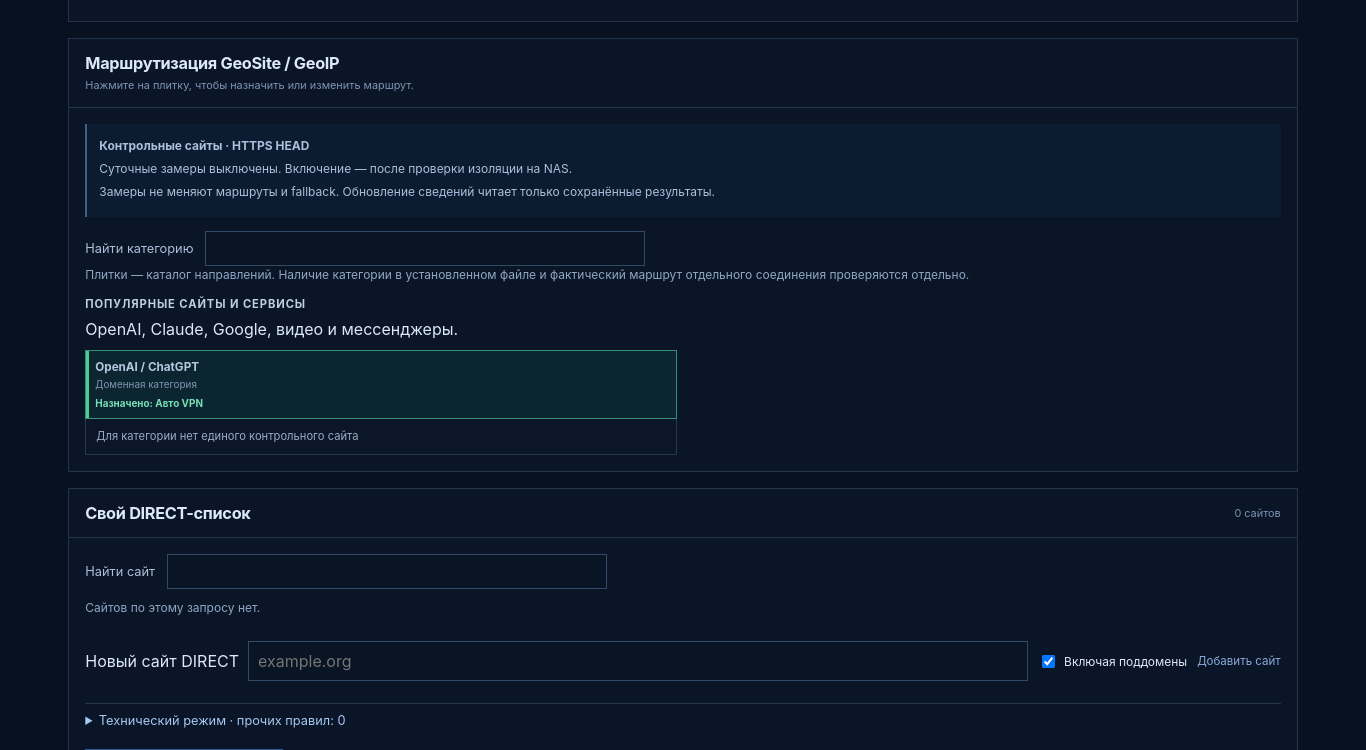
Scenario: RulesPage › marks an active category without losing its selected state
(page scrolled)
Click the button "OpenAI / ChatGPT Доменная категория Назначено: Авто VPN" at (147, 367), box [85,350,677,419]
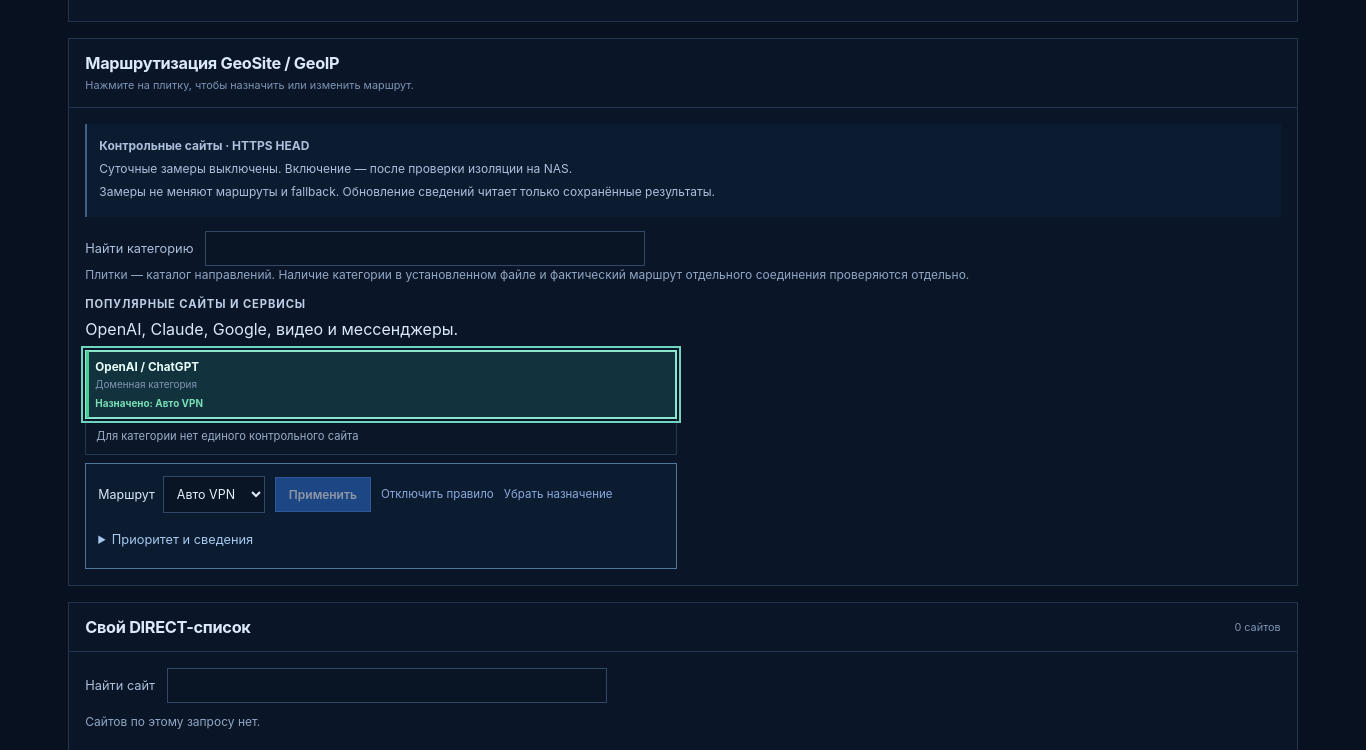
Expected: the button "OpenAI / ChatGPT Доменная категория Назначено: Авто VPN" is expanded, [85,350,677,419]
